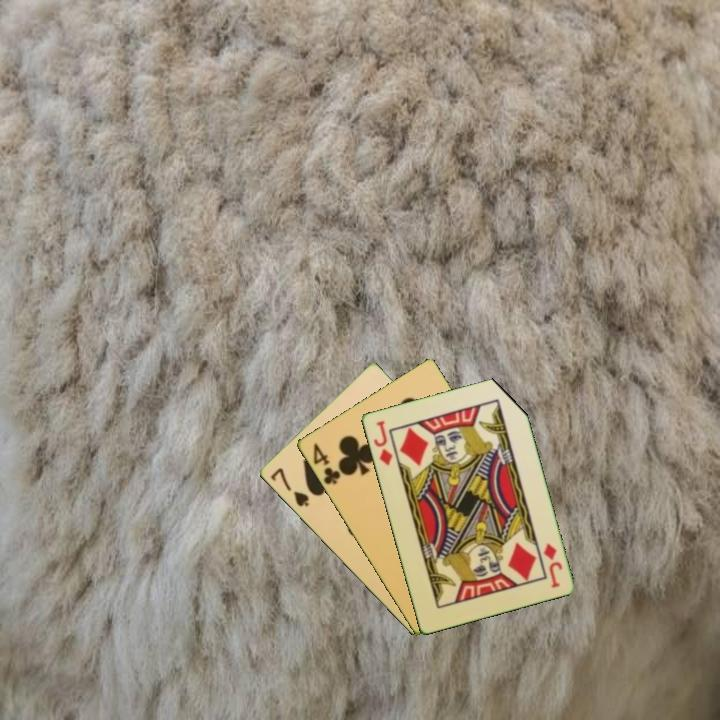4c: (309, 439, 343, 488)
7s: (266, 464, 312, 510)
Jd: (370, 417, 395, 468), (540, 540, 565, 591)
